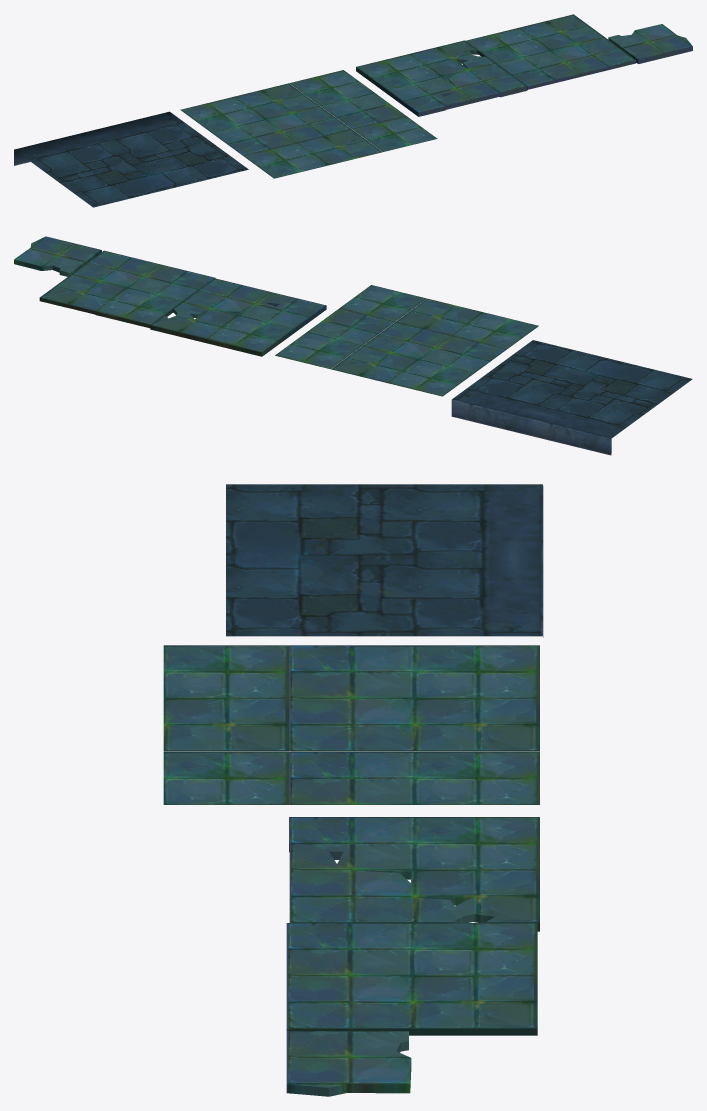
The model's file is FB7_dizhan01.FBX.
The picture shows the model from 3 angles, top to bottom: view 1: azimuth 30°, elevation 25°; view 2: azimuth 150°, elevation 25°; view 3: azimuth 270°, elevation 25°; orthographic projection. The views are drawn at different scales.
Parts seen in each view (by area): view 1: FB7_dizhan01_001, FB7_dizhan01_003, FB7_dizhan01_004, FB7_dizhan01_006, FB7_dizhan01_005, FB7_dizhan01_0010, FB7_dizhan01_002, FB7_dizhan01_009, FB7_dizhan01_007, FB7_dizhan01_0013, FB7_dizhan01_0011, FB7_dizhan01_008 (+1 smaller); view 2: FB7_dizhan01_001, FB7_dizhan01_003, FB7_dizhan01_006, FB7_dizhan01_004, FB7_dizhan01_002, FB7_dizhan01_0010, FB7_dizhan01_005, FB7_dizhan01_009, FB7_dizhan01_0013, FB7_dizhan01_007, FB7_dizhan01_0011, FB7_dizhan01_0012 (+1 smaller); view 3: FB7_dizhan01_001, FB7_dizhan01_003, FB7_dizhan01_004, FB7_dizhan01_006, FB7_dizhan01_0010, FB7_dizhan01_005, FB7_dizhan01_002, FB7_dizhan01_009, FB7_dizhan01_0013, FB7_dizhan01_007, FB7_dizhan01_0011, FB7_dizhan01_0012 (+1 smaller).
Boxes of the visible parts, x1=… form: FB7_dizhan01_001: x1=29, y1=122, x2=248, y2=207; FB7_dizhan01_003: x1=180, y1=83, x2=351, y2=155; FB7_dizhan01_004: x1=243, y1=116, x2=437, y2=178; FB7_dizhan01_006: x1=356, y1=40, x2=478, y2=116; FB7_dizhan01_005: x1=289, y1=70, x2=405, y2=128; FB7_dizhan01_0010: x1=491, y1=21, x2=620, y2=75; FB7_dizhan01_002: x1=14, y1=111, x2=184, y2=165; FB7_dizhan01_009: x1=513, y1=49, x2=636, y2=89; FB7_dizhan01_007: x1=437, y1=55, x2=510, y2=109; FB7_dizhan01_0013: x1=608, y1=24, x2=692, y2=63; FB7_dizhan01_0011: x1=465, y1=27, x2=535, y2=59; FB7_dizhan01_008: x1=486, y1=75, x2=527, y2=97; FB7_dizhan01_001: x1=467, y1=340, x2=692, y2=427; FB7_dizhan01_003: x1=331, y1=322, x2=506, y2=396; FB7_dizhan01_006: x1=150, y1=298, x2=326, y2=356; FB7_dizhan01_004: x1=339, y1=285, x2=538, y2=349; FB7_dizhan01_002: x1=451, y1=388, x2=626, y2=455; FB7_dizhan01_0010: x1=56, y1=262, x2=198, y2=314; FB7_dizhan01_005: x1=275, y1=308, x2=394, y2=369; FB7_dizhan01_009: x1=89, y1=250, x2=215, y2=289; FB7_dizhan01_0013: x1=14, y1=236, x2=101, y2=276; FB7_dizhan01_007: x1=173, y1=285, x2=297, y2=317; FB7_dizhan01_0011: x1=95, y1=299, x2=176, y2=328; FB7_dizhan01_0012: x1=39, y1=286, x2=82, y2=307; FB7_dizhan01_001: x1=226, y1=484, x2=483, y2=636; FB7_dizhan01_003: x1=289, y1=645, x2=539, y2=751; FB7_dizhan01_004: x1=163, y1=645, x2=288, y2=804; FB7_dizhan01_006: x1=289, y1=817, x2=539, y2=931; FB7_dizhan01_0010: x1=347, y1=923, x2=537, y2=1035; FB7_dizhan01_005: x1=289, y1=752, x2=539, y2=804; FB7_dizhan01_002: x1=484, y1=484, x2=543, y2=637; FB7_dizhan01_009: x1=286, y1=923, x2=385, y2=1031; FB7_dizhan01_0013: x1=286, y1=1031, x2=411, y2=1096; FB7_dizhan01_007: x1=289, y1=844, x2=474, y2=923; FB7_dizhan01_0011: x1=423, y1=923, x2=537, y2=976; FB7_dizhan01_0012: x1=475, y1=1003, x2=537, y2=1035.
Size of the model in its own units: 6330 by 161 by 1683.
